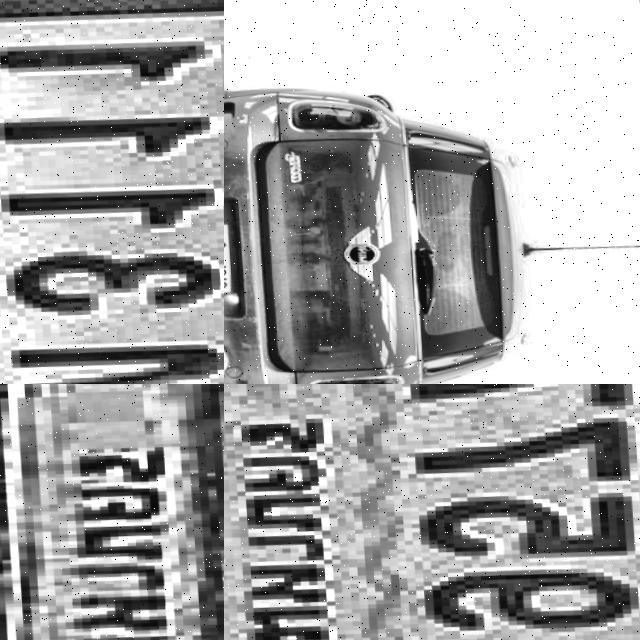license-plate: (224, 384, 640, 640), (0, 0, 224, 384), (0, 384, 224, 640), (224, 218, 239, 298)
